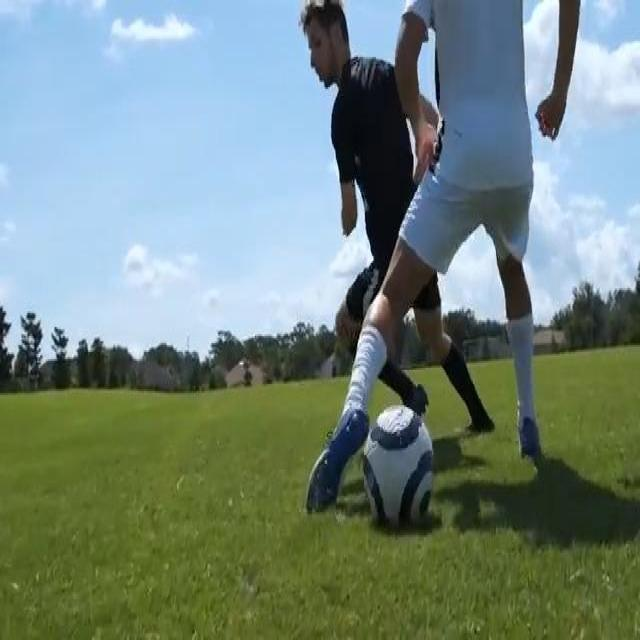Soccer Ball: (362, 403, 434, 534)
